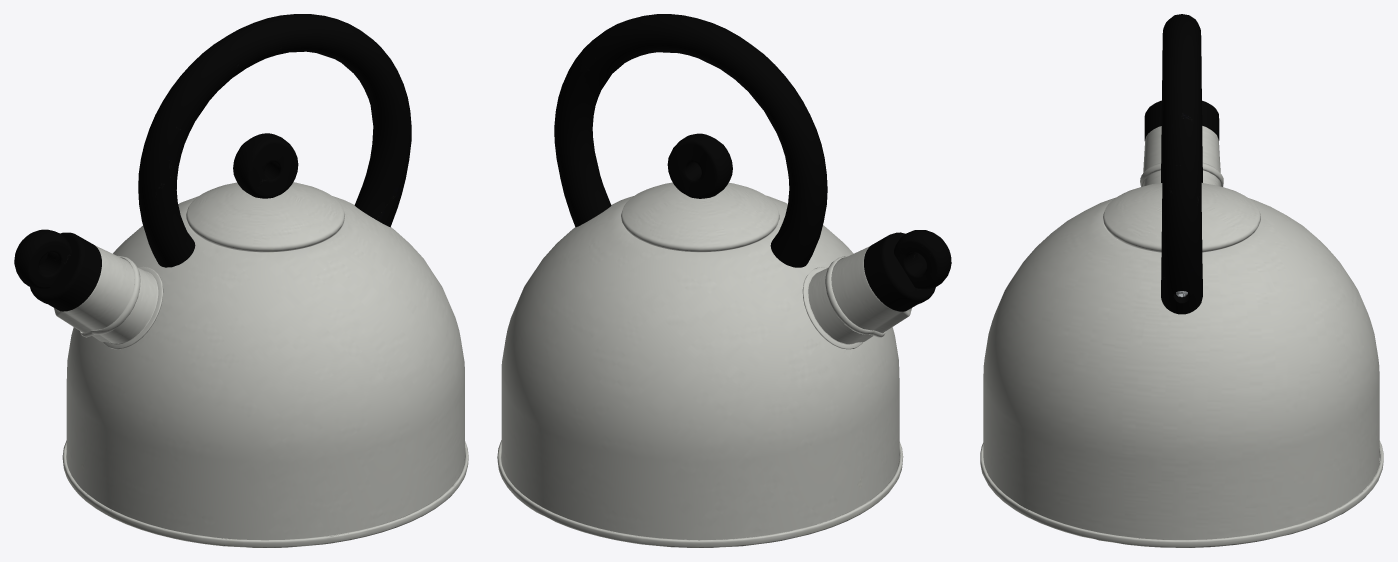
Rendered from vattentat_czajnik_20239595.glb.
3 renders of one model, left to right at view 1: azimuth 30°, elevation 25°; view 2: azimuth 150°, elevation 25°; view 3: azimuth 270°, elevation 25°, orthographic.
Visible parts, largest first — view 1: vattentat_czajnik_20239595; view 2: vattentat_czajnik_20239595; view 3: vattentat_czajnik_20239595.
Part boxes in pixels (box(x1,y1,x2,y2)): vattentat_czajnik_20239595: box(14, 14, 468, 547); vattentat_czajnik_20239595: box(497, 14, 951, 547); vattentat_czajnik_20239595: box(980, 14, 1383, 547).
Bounding box in the file's own units: 0.231 × 0.2341 × 0.1914.
1 material, 1 textured.
